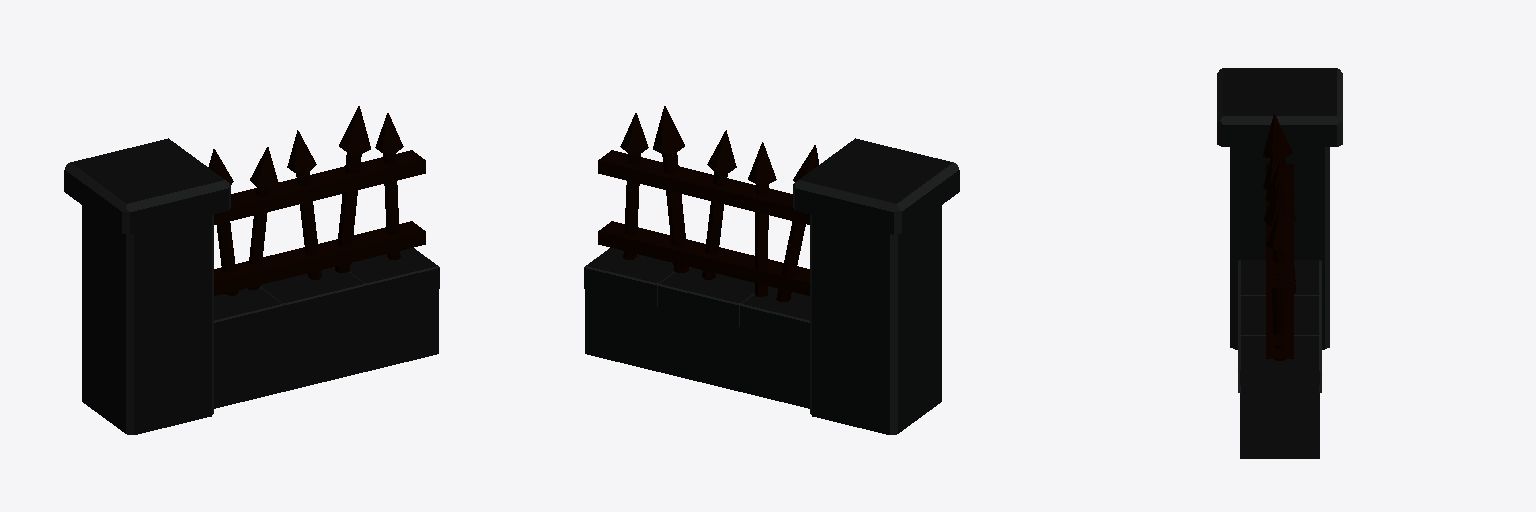
File: Fence_01_Graveyard.obj
3 renders of one model, left to right at view 1: azimuth 30°, elevation 25°; view 2: azimuth 150°, elevation 25°; view 3: azimuth 270°, elevation 25°, orthographic.
Visible parts, largest first — view 1: Fence_01Graveyard_Circle.007; view 2: Fence_01Graveyard_Circle.007; view 3: Fence_01Graveyard_Circle.007.
Boxes of the visible parts, x1=… form: Fence_01Graveyard_Circle.007: x1=64, y1=106, x2=439, y2=434; Fence_01Graveyard_Circle.007: x1=584, y1=106, x2=959, y2=434; Fence_01Graveyard_Circle.007: x1=1217, y1=68, x2=1342, y2=458.
Size of the model in its own units: 4.81 by 3.52 by 1.62.